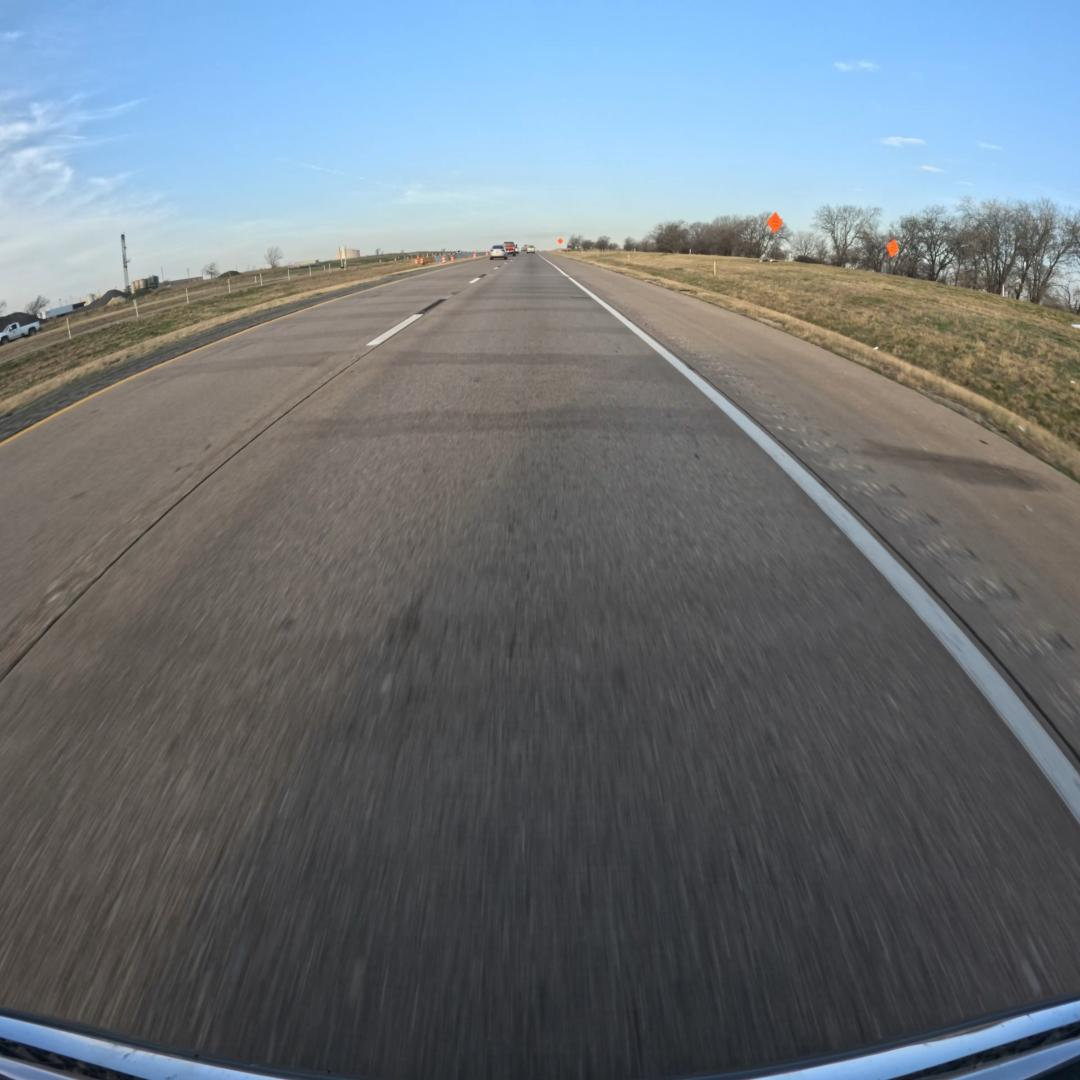lane0: (0, 257, 1080, 1080)
lane1: (0, 259, 493, 683)
